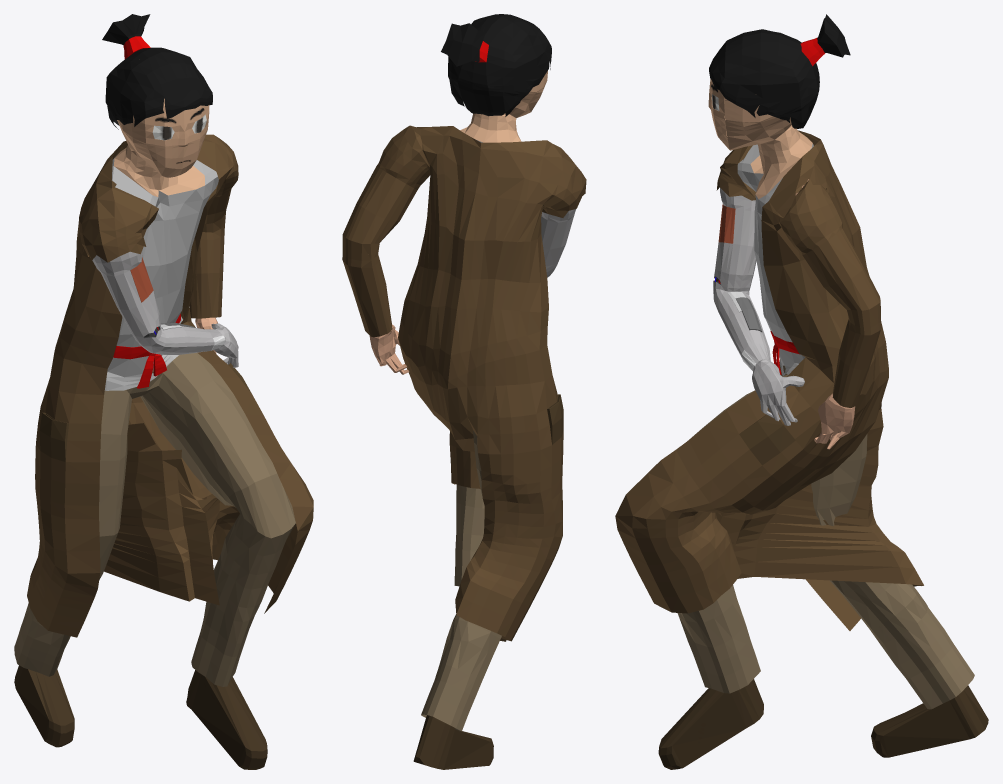
Rendered from One_RF_000009.obj.
The picture shows the model from 3 angles, left to right: view 1: azimuth 30°, elevation 25°; view 2: azimuth 150°, elevation 25°; view 3: azimuth 270°, elevation 25°; orthographic projection. The views are drawn at different scales.
Visible parts, largest first — view 1: Hair_Cube.004; view 2: Hair_Cube.004; view 3: Hair_Cube.004.
Boxes of the visible parts, box(x1,y1,x2,y2) form: Hair_Cube.004: box(14, 14, 313, 769); Hair_Cube.004: box(342, 14, 586, 769); Hair_Cube.004: box(615, 14, 988, 769).
Size of the model in its own units: 1.09 by 3.84 by 1.72.
